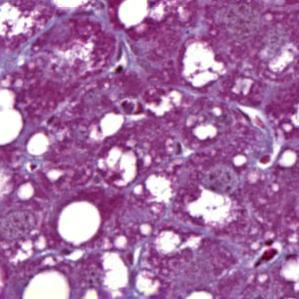steatosis: (56, 201, 102, 241)
